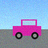vehicle: (13, 20, 41, 39)
